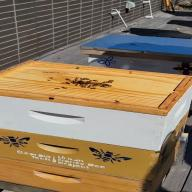Bee: (63, 74, 121, 90)
